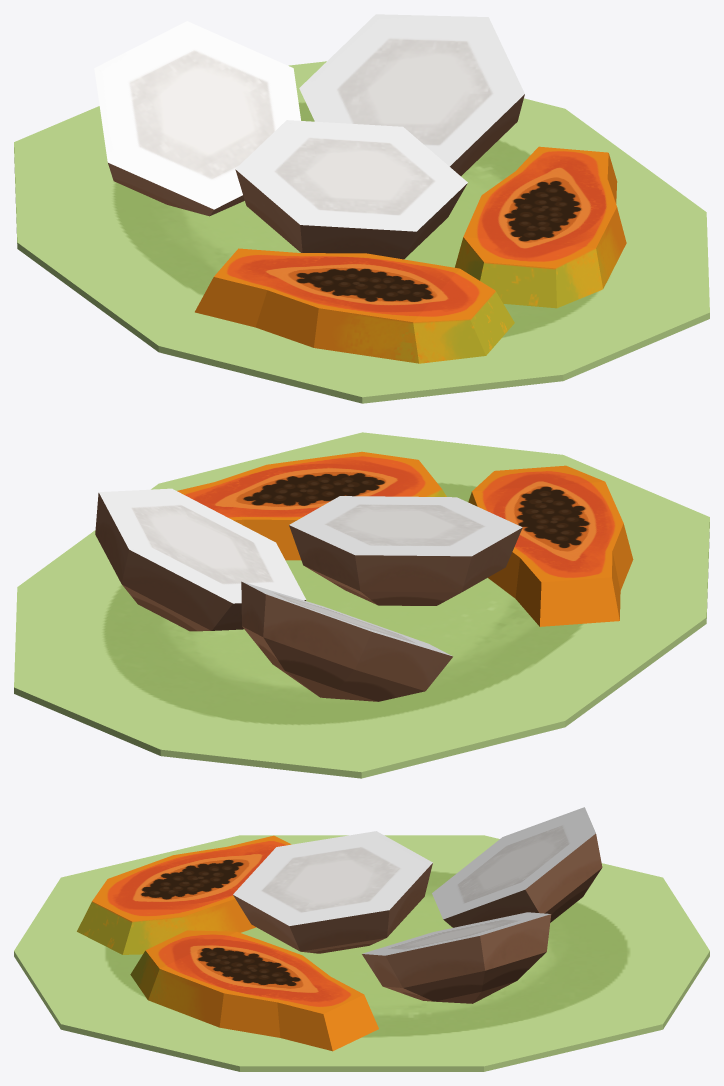
The model's file is fruitPlatter.fbx.
The picture shows the model from 3 angles, top to bottom: view 1: azimuth 30°, elevation 25°; view 2: azimuth 150°, elevation 25°; view 3: azimuth 270°, elevation 25°; orthographic projection. The views are drawn at different scales.
Parts seen in each view (by area): view 1: fruitPlatter; view 2: fruitPlatter; view 3: fruitPlatter.
Boxes of the visible parts, box(x1,y1,x2,y2) form: fruitPlatter: box(14, 14, 709, 403); fruitPlatter: box(14, 432, 709, 778); fruitPlatter: box(14, 807, 709, 1071).
Bounding box in the file's own units: 0.5733 × 0.1304 × 0.7298.
